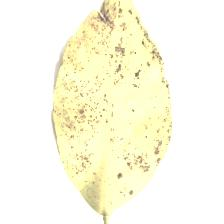canker: (71, 50, 155, 151)
